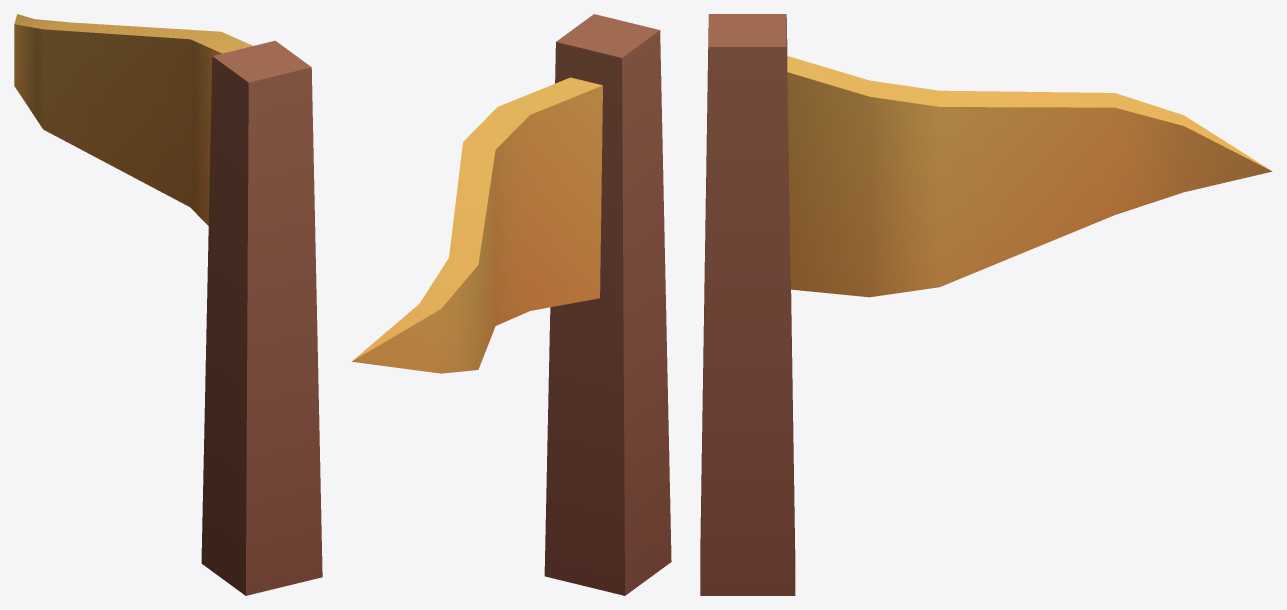
Rendered from flag_yellow.glb.
3 views of the same model, side by side, from view 1: azimuth 30°, elevation 25°; view 2: azimuth 150°, elevation 25°; view 3: azimuth 270°, elevation 25° (orthographic). The views are drawn at different scales.
Visible parts, largest first — view 1: flag_yellow; view 2: flag_yellow; view 3: flag_yellow.
Part boxes in pixels (<box>): flag_yellow: <box>14,14,322,595</box>; flag_yellow: <box>352,14,671,595</box>; flag_yellow: <box>700,14,1272,595</box>.
Size of the model in its own units: 0.055 by 0.2775 by 0.264.
1 material, 1 textured.
